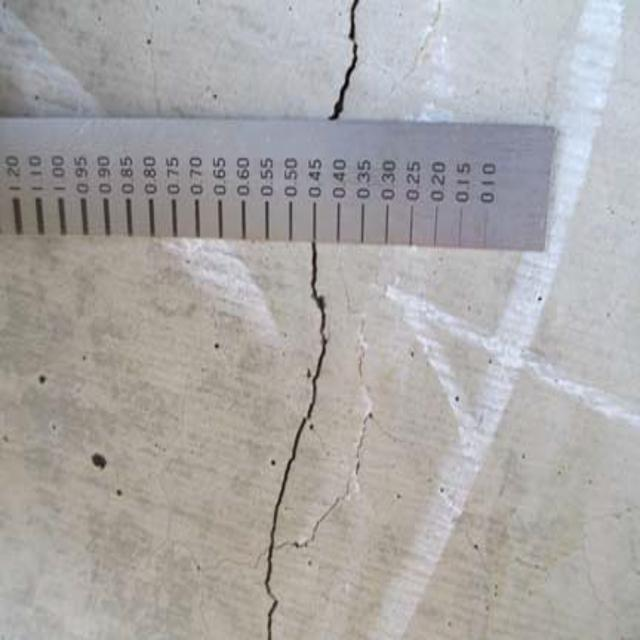crack: (247, 237, 342, 636), (311, 5, 396, 121)
